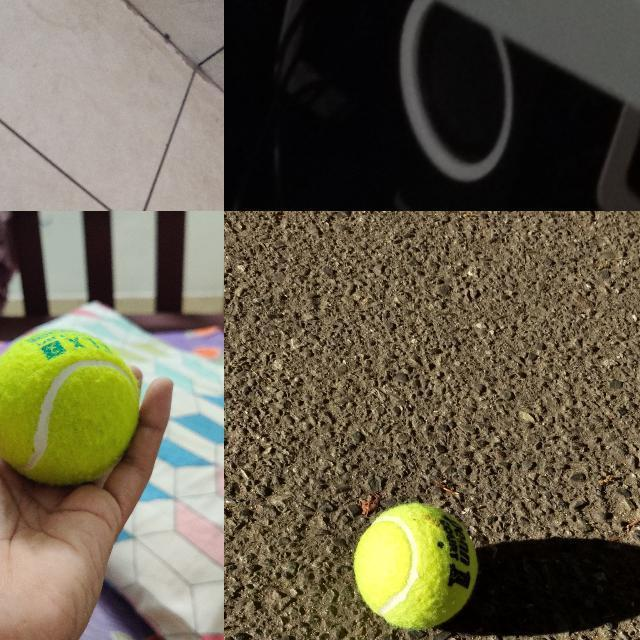tennis-ball: (0, 328, 139, 485), (353, 503, 480, 631)
